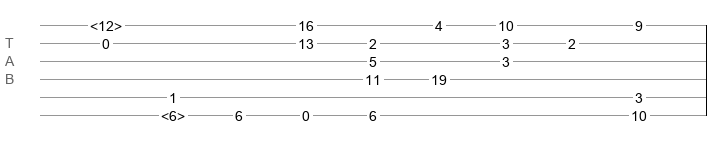0: (102, 36, 110, 46), (302, 108, 310, 118)
1: (169, 90, 177, 100)
10: (498, 18, 514, 28), (631, 108, 647, 118)
11: (365, 72, 381, 82)
13: (298, 36, 314, 46)
16: (298, 18, 314, 28)
19: (431, 72, 447, 82)
2: (369, 36, 377, 46), (568, 36, 576, 46)
3: (502, 36, 510, 46), (502, 54, 510, 64), (635, 90, 643, 100)
4: (435, 18, 443, 28)
5: (369, 54, 377, 64)
6: (235, 108, 243, 118), (369, 108, 377, 118)
9: (635, 18, 643, 28)
harmonic: (90, 18, 122, 28), (161, 108, 185, 118)
